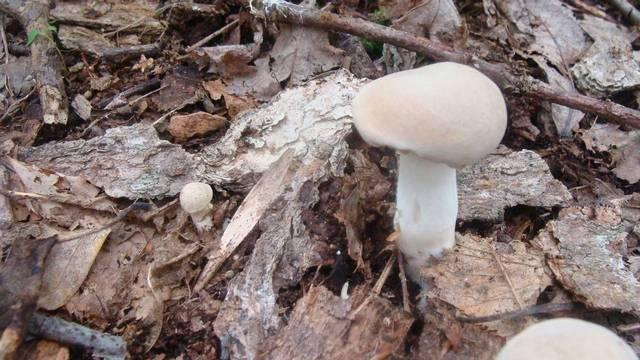edible_mushroom: (350, 60, 508, 282)
